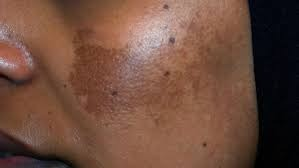Melasma: (60, 20, 225, 129)
